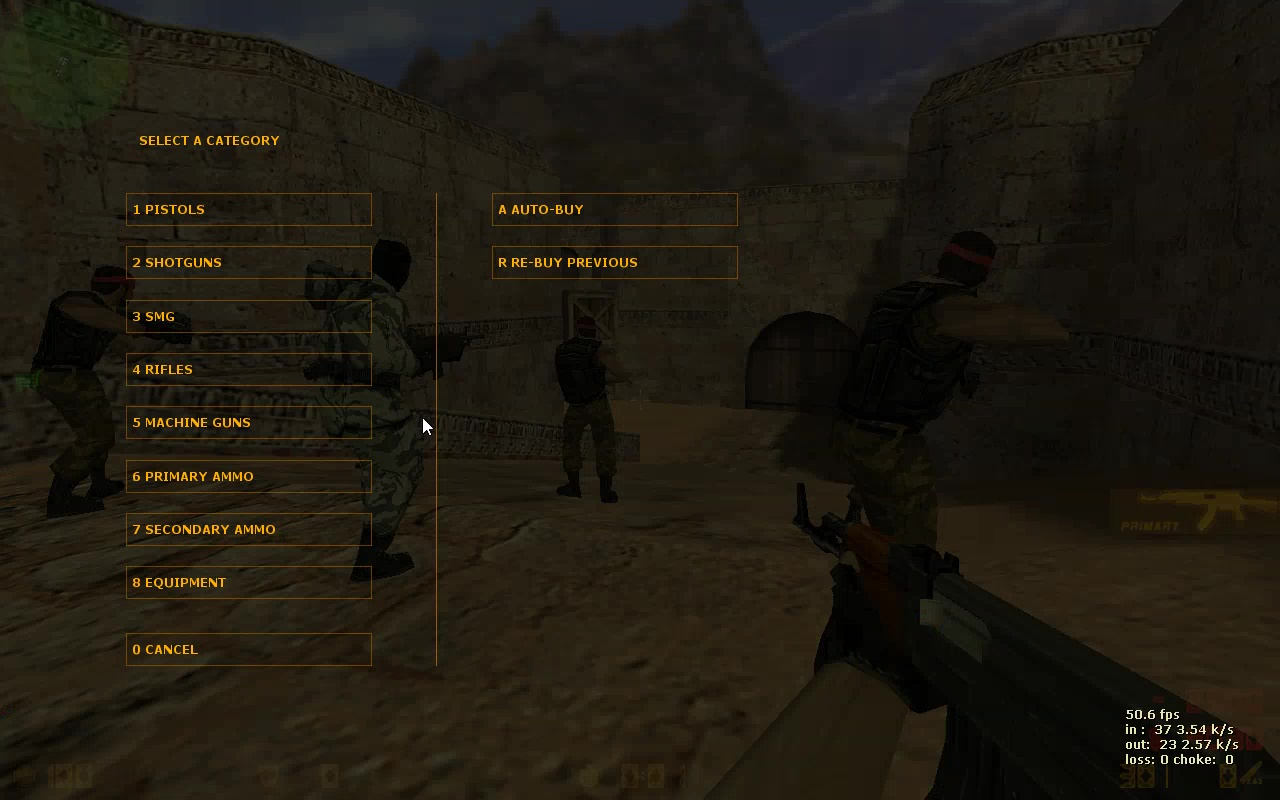terr2: (302, 236, 469, 580)
